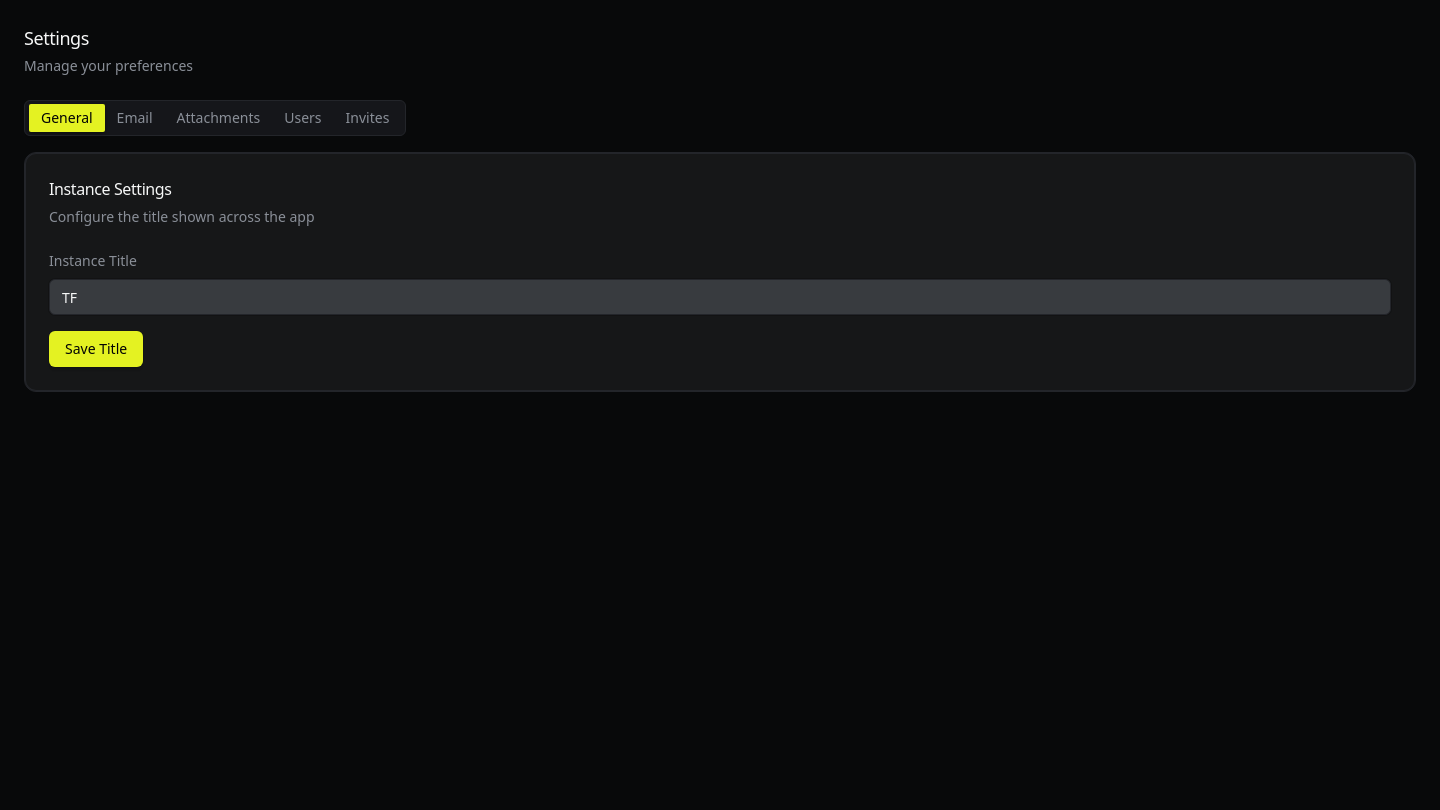
it: SettingsPage Email tab › renders SMTP fields populated from settings
Click the tab "Email": (135, 118) left=105, top=104, right=165, bottom=132
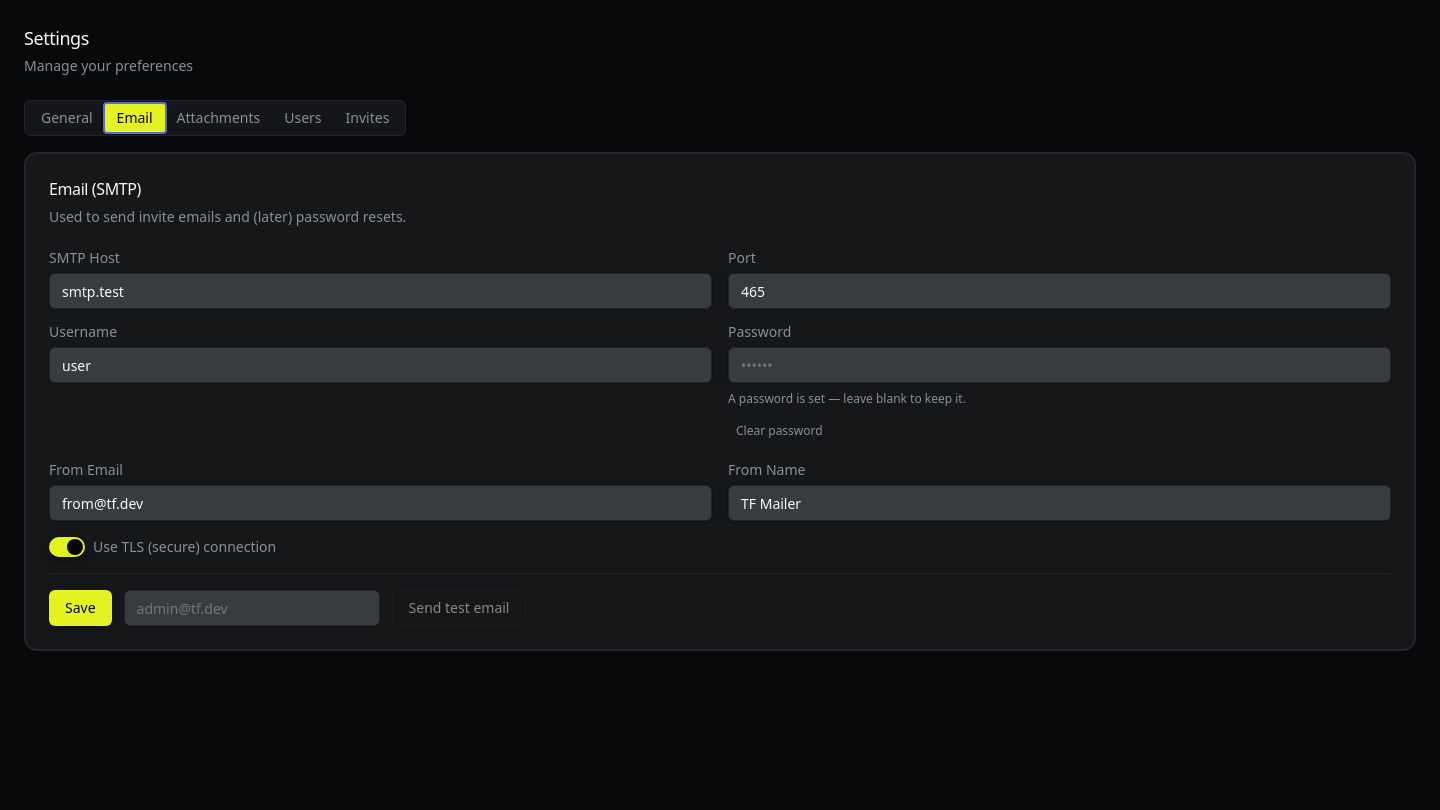
Expected: the field labelled "SMTP Host" holds "smtp.test", left=49, top=273, right=712, bottom=309
Expected: the field labelled "From Email" holds "from@tf.dev", left=49, top=485, right=712, bottom=521
Expected: the password field with placeholder "••••••" is shown, left=728, top=347, right=1391, bottom=383
